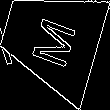M_W: (24, 10, 77, 69)
